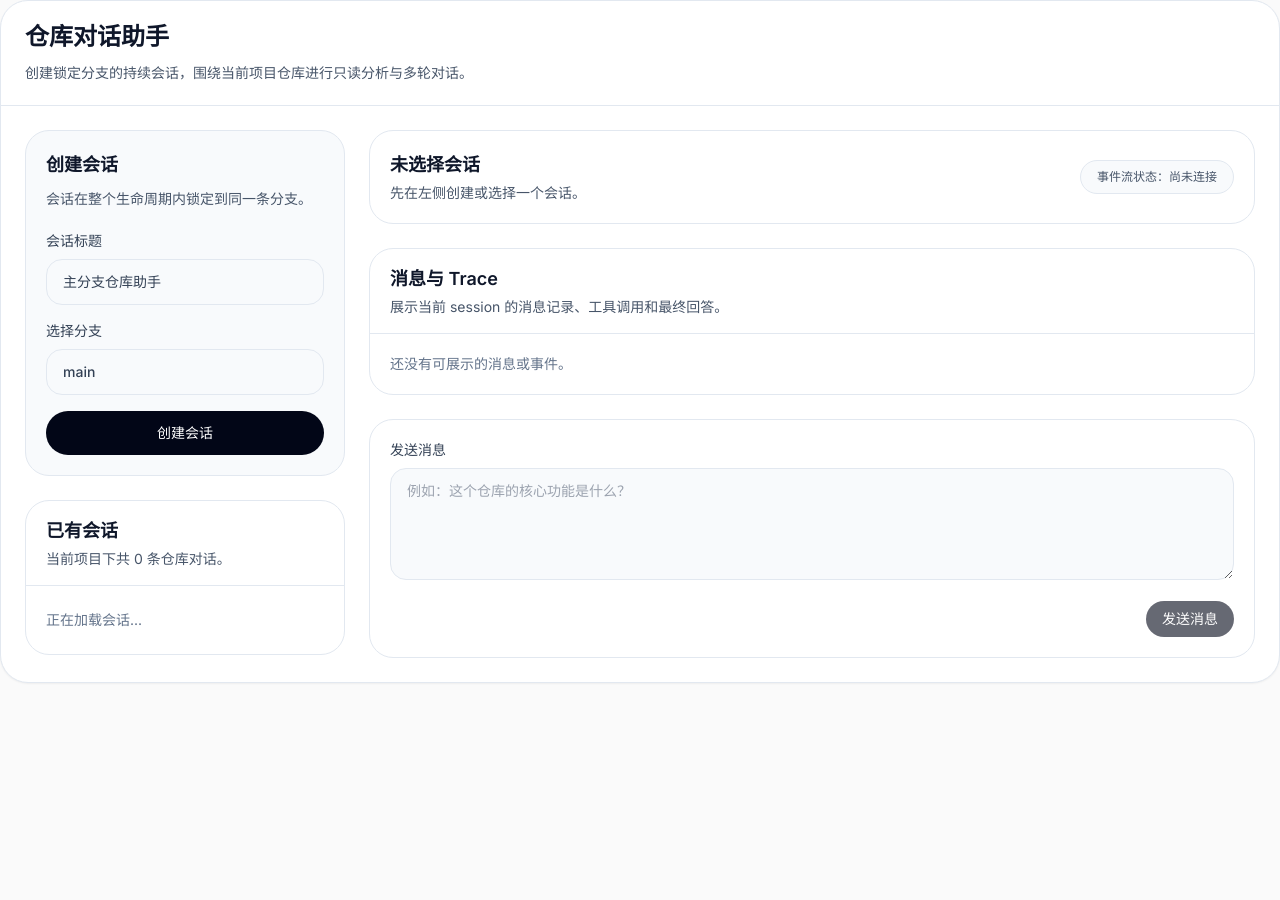
Test: creates session and renders it in session list
Click the button "创建会话".
click(185, 433)  # box [46,411,324,455]
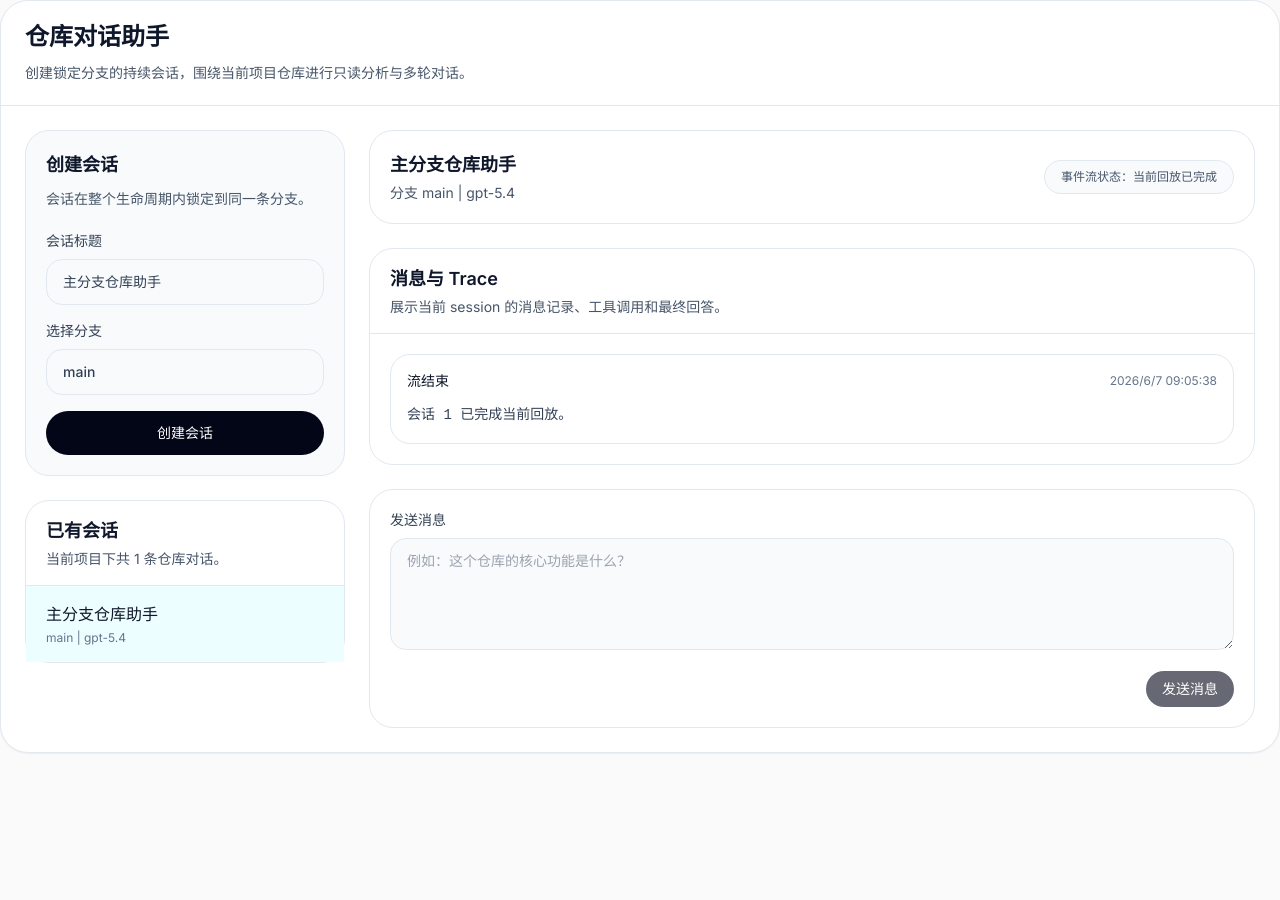
Result: the text "当前项目下共 1 条仓库对话。" is shown at [46,550,228,567]
Result: the text "主分支仓库助手" is shown at [46,602,158,626]
